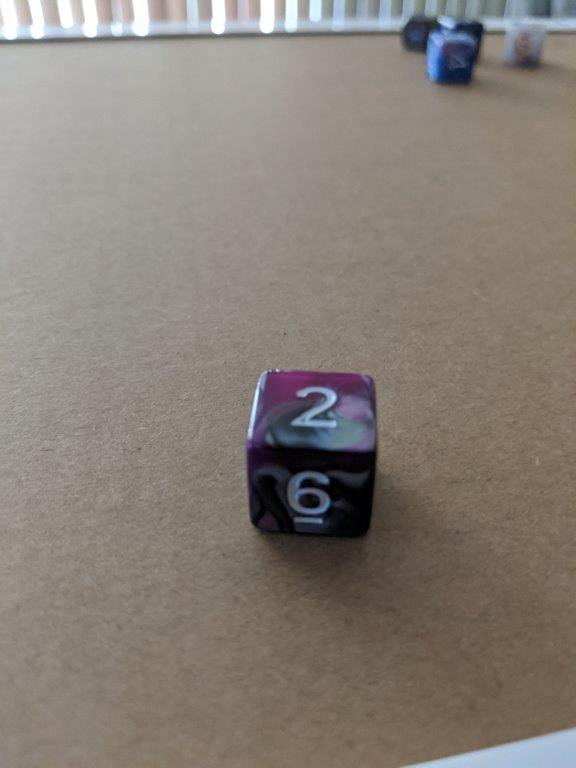d6-2: (243, 367, 380, 543)
